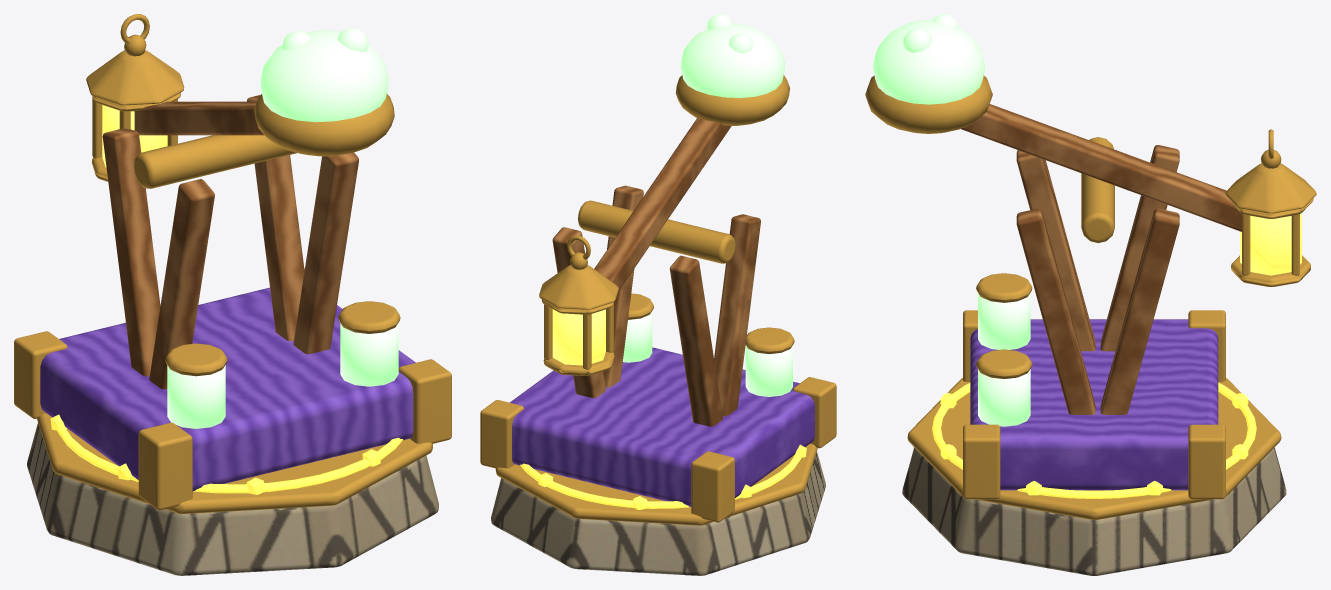
File: jelly_lobber.glb
3 views of the same model, side by side, from view 1: azimuth 30°, elevation 25°; view 2: azimuth 150°, elevation 25°; view 3: azimuth 270°, elevation 25° (orthographic). The views are drawn at different scales.
Visible parts, largest first — view 1: jelly_lobber; view 2: jelly_lobber; view 3: jelly_lobber.
Boxes of the visible parts, x1,y1,x2,y2 form: jelly_lobber: (14, 14, 451, 575); jelly_lobber: (480, 14, 836, 575); jelly_lobber: (865, 14, 1316, 575).
Bounding box in the file's own units: 1.02 × 1.4 × 1.2.
Materials: 5 (1 with a texture image).
